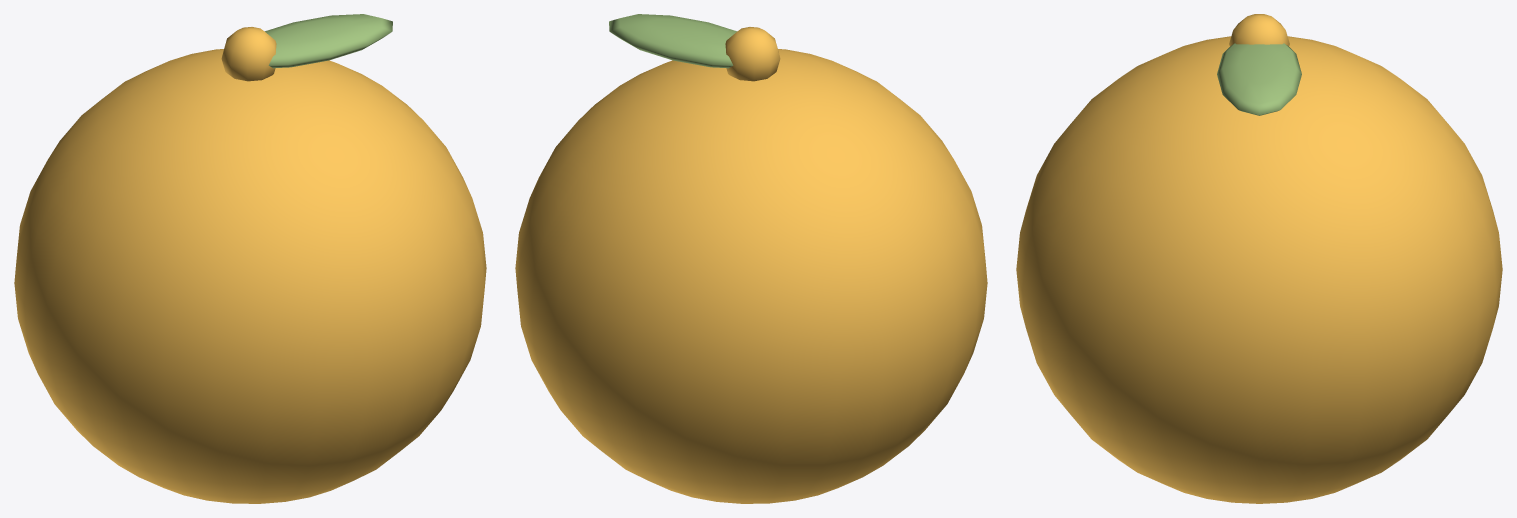
Rendered from Orange.glb.
3 renders of one model, left to right at view 1: azimuth 30°, elevation 25°; view 2: azimuth 150°, elevation 25°; view 3: azimuth 270°, elevation 25°, orthographic. The views are drawn at different scales.
Parts seen in each view (by area): view 1: Orange; view 2: Orange; view 3: Orange.
Boxes of the visible parts, left/top/right/bottom form: Orange: left=14, top=14, right=486, bottom=503; Orange: left=515, top=14, right=987, bottom=503; Orange: left=1016, top=14, right=1502, bottom=503.
Bounding box in the file's own units: 0.88 × 0.9274 × 0.88.
